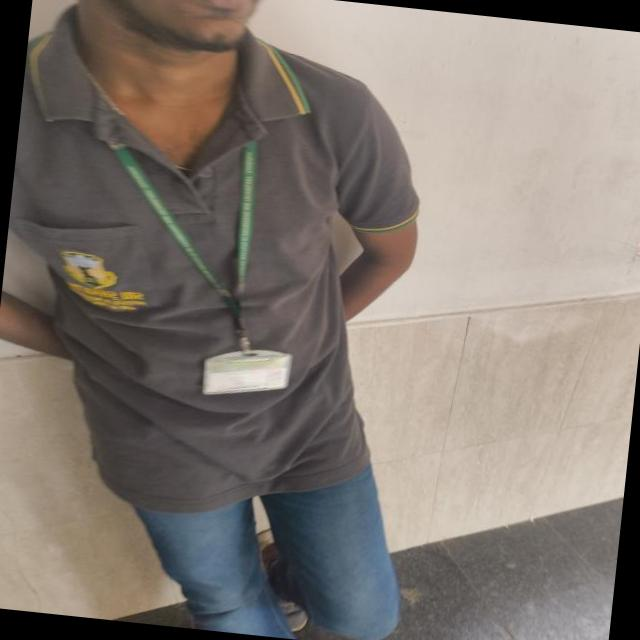id_card: (90, 145, 318, 404)
